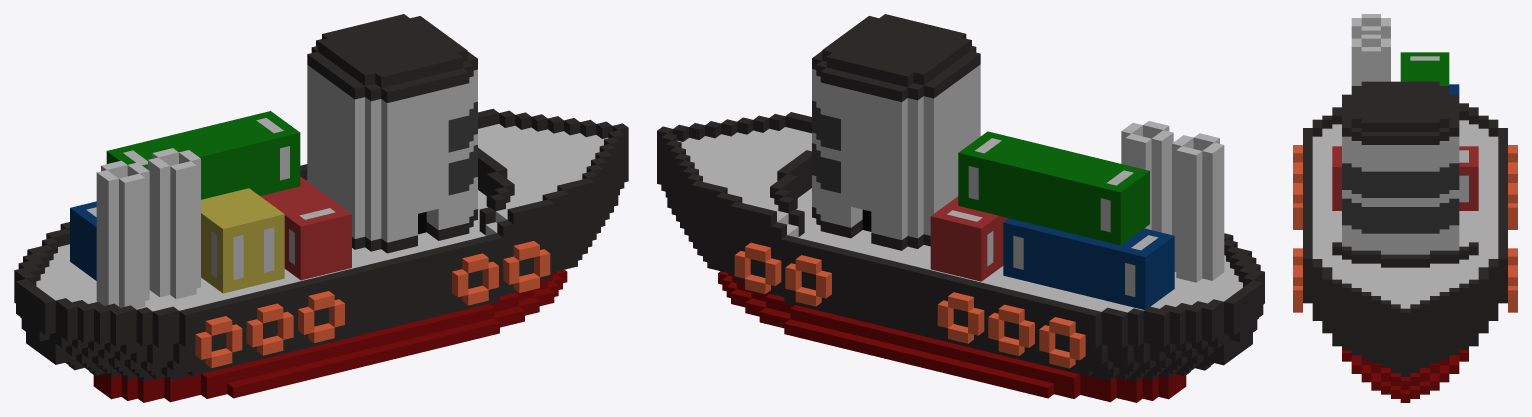
File: cargo ship.obj
The picture shows the model from 3 angles, left to right: view 1: azimuth 30°, elevation 25°; view 2: azimuth 150°, elevation 25°; view 3: azimuth 270°, elevation 25°; orthographic projection. The views are drawn at different scales.
Size of the model in its own units: 5.8 by 2.6 by 2.3.
